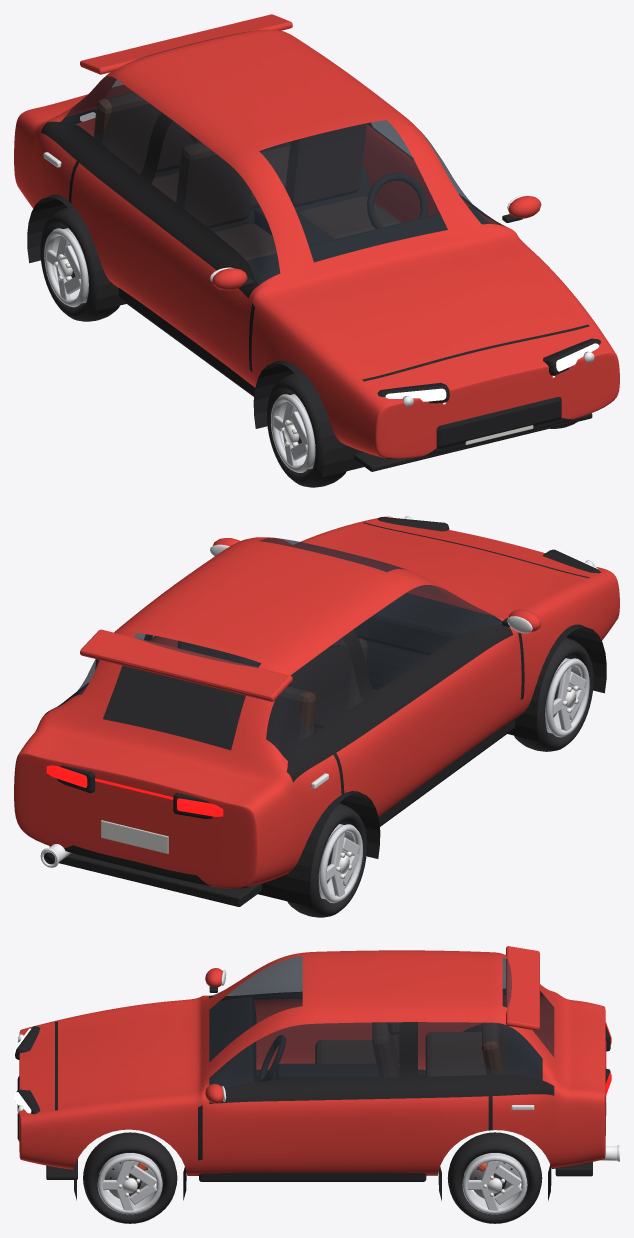
File: kestrel.glb
The picture shows the model from 3 angles, top to bottom: view 1: azimuth 30°, elevation 25°; view 2: azimuth 150°, elevation 25°; view 3: azimuth 270°, elevation 25°; orthographic projection. The views are drawn at different scales.
Parts seen in each view (by area): view 1: body, wheel_fr, wheel_rr; view 2: body, wheel_rr, wheel_fr; view 3: body, wheel_fl, wheel_rl.
Part boxes in pixels (<box>): body: <box>14,14,619,477</box>; wheel_fr: <box>266,373,346,487</box>; wheel_rr: <box>40,207,119,321</box>; body: <box>14,516,619,907</box>; wheel_rr: <box>287,803,367,917</box>; wheel_fr: <box>514,637,593,751</box>; body: <box>14,946,619,1200</box>; wheel_fl: <box>83,1132,177,1223</box>; wheel_rl: <box>447,1132,542,1223</box>.
Bounding box in the file's own units: 2.12 × 1.52 × 4.24.
